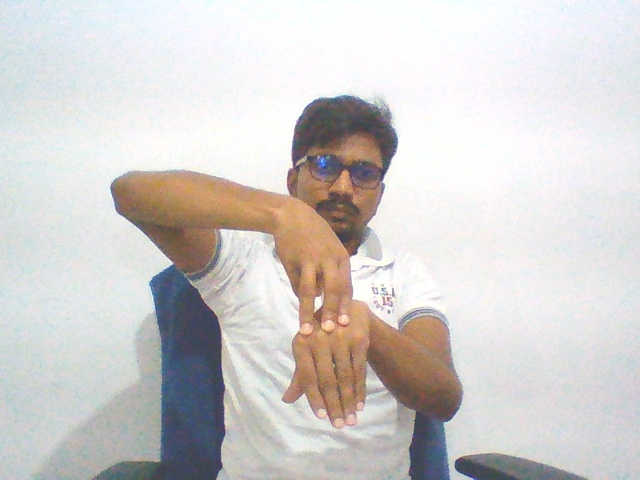papaya: (270, 193, 375, 437)
